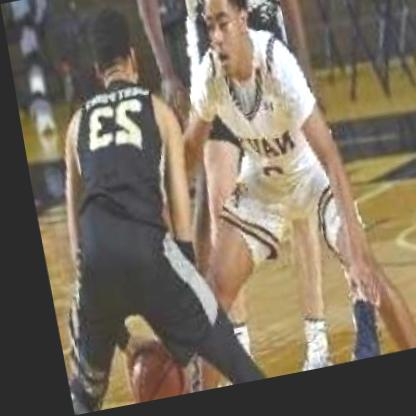basketball: (104, 336, 177, 407)
